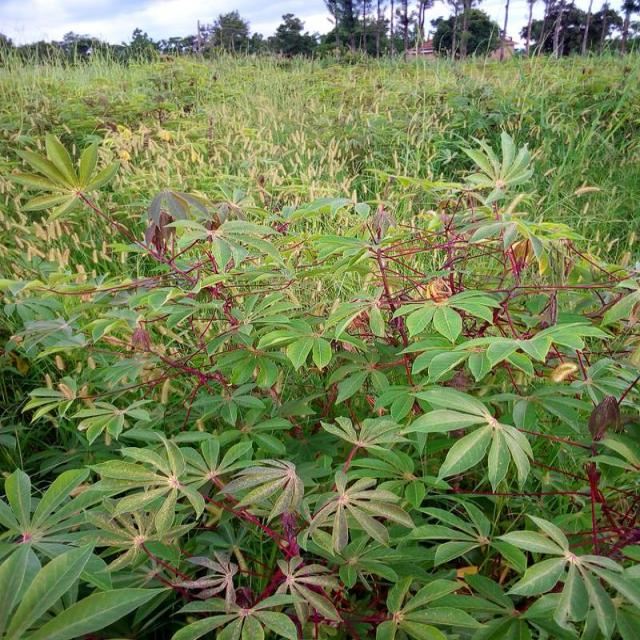cassava leaf: (2, 120, 640, 638)
